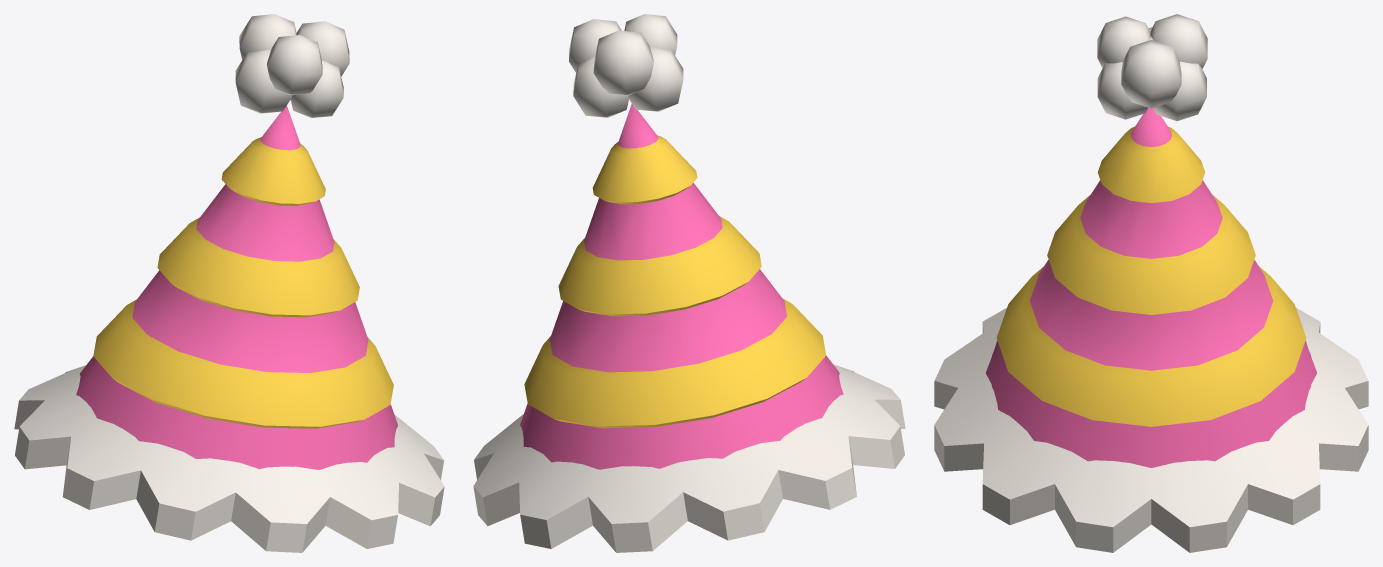
File: chapeau_fete.fbx
3 views of the same model, side by side, from view 1: azimuth 30°, elevation 25°; view 2: azimuth 150°, elevation 25°; view 3: azimuth 270°, elevation 25° (orthographic).
Parts seen in each view (by area): view 1: Chapeau, Anim_Pompon; view 2: Chapeau, Anim_Pompon; view 3: Chapeau, Anim_Pompon.
Part boxes in pixels (left/top/right/bottom): Chapeau: left=14, top=106, right=444, bottom=552; Anim_Pompon: left=235, top=14, right=349, bottom=118; Chapeau: left=473, top=104, right=905, bottom=552; Anim_Pompon: left=569, top=14, right=683, bottom=117; Chapeau: left=934, top=108, right=1368, bottom=552; Anim_Pompon: left=1097, top=14, right=1207, bottom=121.
Size of the model in its own units: 0.8289 by 0.9981 by 0.8311.
